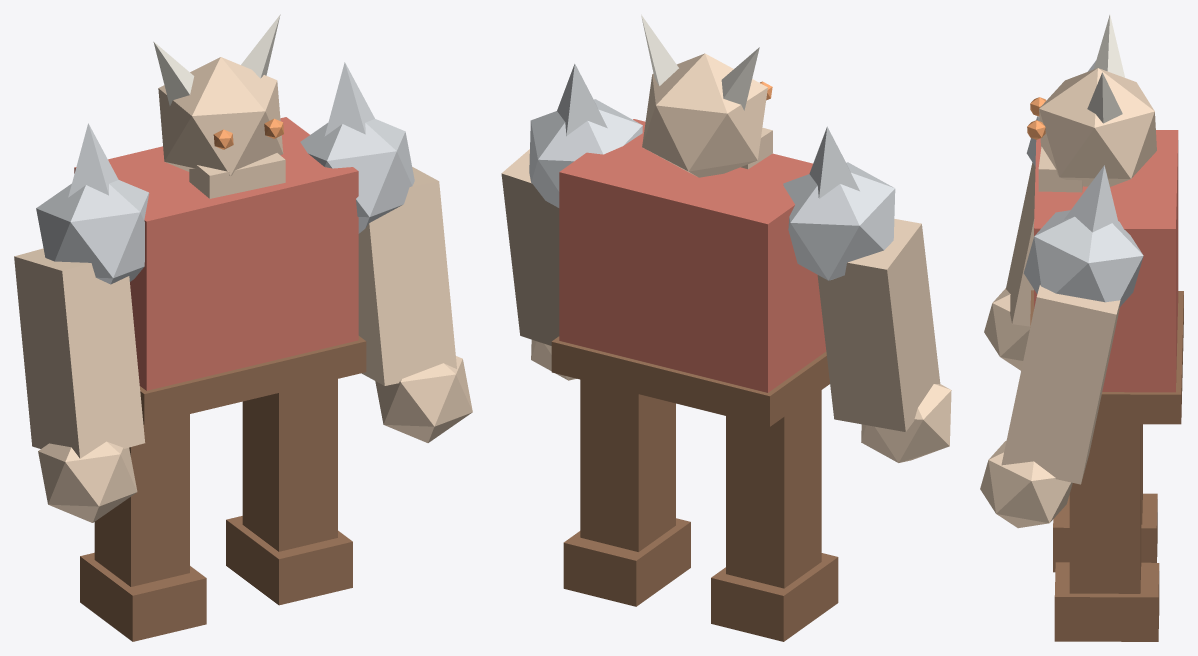
File: npcpose_brute_idle_06.glb
The picture shows the model from 3 angles, left to right: view 1: azimuth 30°, elevation 25°; view 2: azimuth 150°, elevation 25°; view 3: azimuth 270°, elevation 25°; orthographic projection. The views are drawn at different scales.
Visible parts, largest first — view 1: npcpose; view 2: npcpose; view 3: npcpose.
Boxes of the visible parts, <box> form: npcpose: <box>14,14,472,641</box>; npcpose: <box>501,14,951,641</box>; npcpose: <box>980,15,1183,641</box>.
Bounding box in the file's own units: 1.43 × 1.86 × 0.6274.
